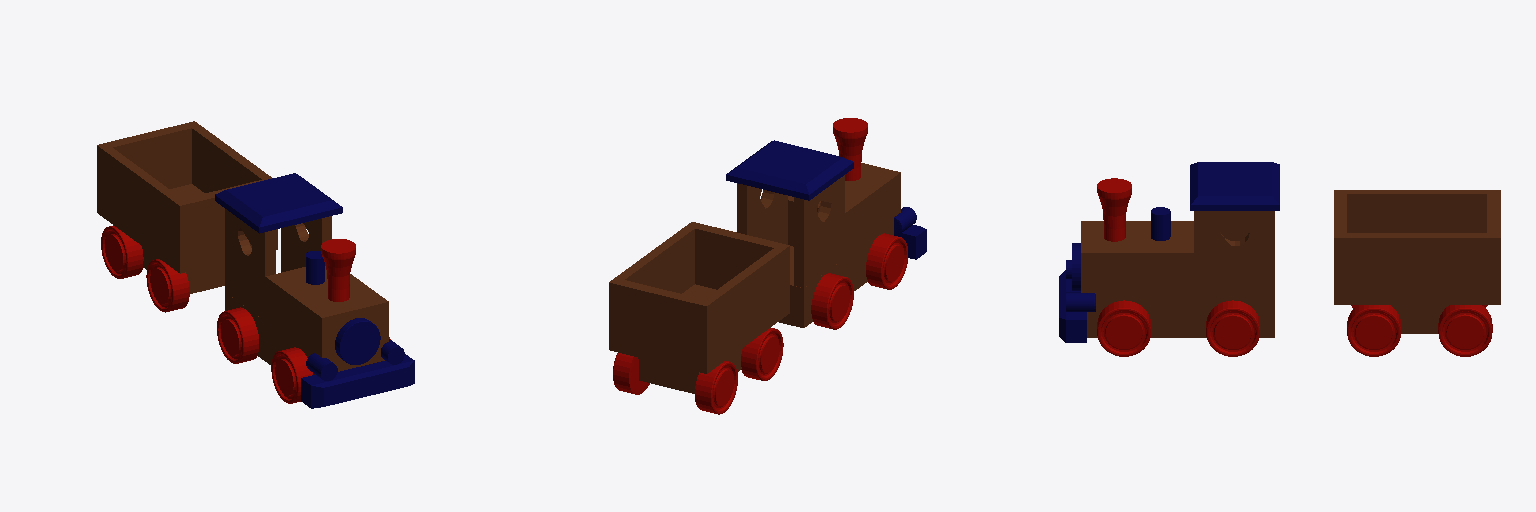
File: train.obj
3 renders of one model, left to right at view 1: azimuth 30°, elevation 25°; view 2: azimuth 150°, elevation 25°; view 3: azimuth 270°, elevation 25°, orthographic.
Parts seen in each view (by area): view 1: Cube.006_Cube.008, Cube, Cube.005_Cube.006, Cube.004_Cube.007, Cube.001, Cylinder.010_Cylinder.019, Cube.003_Cube.005, Cylinder.011_Cylinder.020, Cylinder.012_Cylinder.021, Cylinder, Cylinder.003, Cylinder.009_Cylinder.018 (+3 smaller); view 2: Cube.006_Cube.008, Cube, Cube.005_Cube.006, Cube.004_Cube.007, Cube.003_Cube.005, Cylinder.010_Cylinder.019, Cylinder.009_Cylinder.018, Cylinder.012_Cylinder.021, Cylinder.011_Cylinder.020, Cylinder.003, Cube.002, Cylinder.008_Cylinder.017 (+1 smaller); view 3: Cube.006_Cube.008, Cube, Cube.003_Cube.005, Cube.005_Cube.006, Cylinder.006_Cylinder.015, Cylinder.005_Cylinder.006, Cylinder.008_Cylinder.017, Cylinder.007_Cylinder.016, Cylinder.003, Cube.002, Cube.001, Cylinder.004 (+1 smaller).
Part boxes in pixels (bbox=[...]): Cube.006_Cube.008: bbox=[97, 121, 277, 293]; Cube: bbox=[265, 266, 388, 374]; Cube.005_Cube.006: bbox=[215, 173, 342, 233]; Cube.004_Cube.007: bbox=[225, 209, 275, 320]; Cube.001: bbox=[301, 354, 414, 408]; Cylinder.010_Cylinder.019: bbox=[217, 307, 258, 363]; Cube.003_Cube.005: bbox=[281, 216, 331, 272]; Cylinder.011_Cylinder.020: bbox=[146, 259, 189, 312]; Cylinder.012_Cylinder.021: bbox=[101, 225, 143, 278]; Cylinder: bbox=[335, 318, 380, 364]; Cylinder.003: bbox=[321, 239, 355, 301]; Cylinder.009_Cylinder.018: bbox=[271, 347, 312, 403]; Cube.006_Cube.008: bbox=[609, 222, 789, 393]; Cube: bbox=[788, 163, 900, 290]; Cube.005_Cube.006: bbox=[726, 140, 853, 200]; Cube.004_Cube.007: bbox=[794, 175, 844, 287]; Cube.003_Cube.005: bbox=[737, 183, 787, 244]; Cylinder.010_Cylinder.019: bbox=[811, 273, 853, 329]; Cylinder.009_Cylinder.018: bbox=[866, 233, 907, 289]; Cylinder.012_Cylinder.021: bbox=[695, 361, 737, 414]; Cylinder.011_Cylinder.020: bbox=[741, 328, 783, 380]; Cylinder.003: bbox=[833, 118, 867, 180]; Cube.002: bbox=[779, 246, 843, 327]; Cylinder.008_Cylinder.017: bbox=[613, 353, 649, 394]; Cube.006_Cube.008: bbox=[1334, 190, 1500, 333]; Cube: bbox=[1081, 221, 1193, 337]; Cube.003_Cube.005: bbox=[1194, 211, 1274, 297]; Cube.005_Cube.006: bbox=[1190, 162, 1279, 210]; Cylinder.006_Cylinder.015: bbox=[1206, 300, 1259, 356]; Cylinder.005_Cylinder.006: bbox=[1097, 300, 1150, 356]; Cylinder.008_Cylinder.017: bbox=[1438, 305, 1492, 356]; Cylinder.007_Cylinder.016: bbox=[1347, 305, 1400, 356]; Cylinder.003: bbox=[1097, 178, 1131, 241]; Cube.002: bbox=[1194, 298, 1274, 337]; Cube.001: bbox=[1059, 270, 1086, 342]; Cylinder.004: bbox=[1151, 207, 1170, 240].
Bounding box in the file's own units: 2.54 × 3.63 × 9.4.